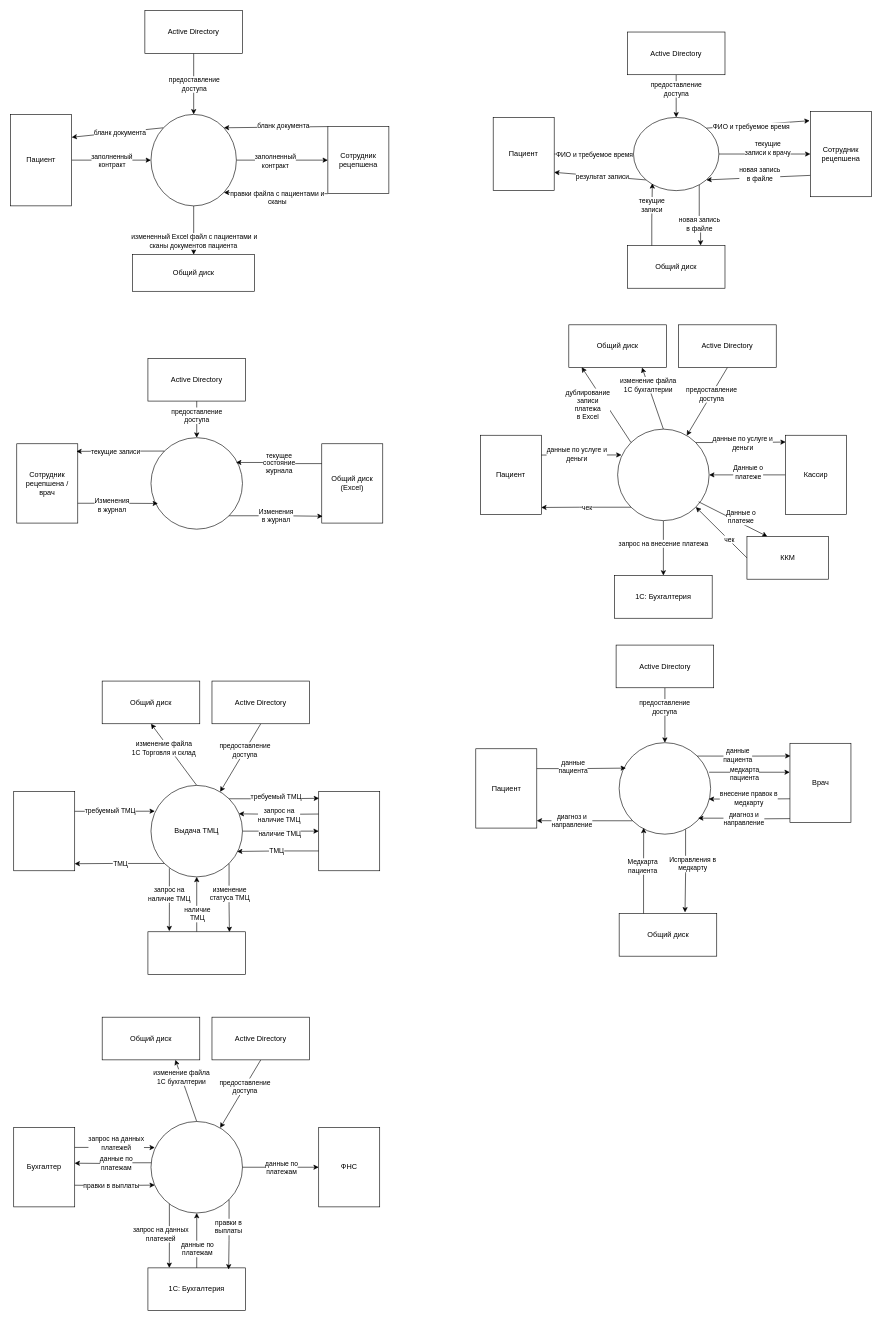
Some shapes in this 882 by 1321 pixel diagram are drawn without their labels. Each missing label, with the centre of its shape:
"1С: Торговля и склад" belongs at (x=196, y=952).
"Заключение клиентского контракта" belongs at (x=193, y=160).
"Запись к врачу" belongs at (x=676, y=154).
"Оплата услуг" belongs at (x=663, y=475).
"Прием пациента" belongs at (x=665, y=788).
"Процессинг платежей и выплата налогов" belongs at (x=196, y=1167).
"Редактирование журнала записей к специалисту" belongs at (x=196, y=483).
"Складской работник" belongs at (x=349, y=831).
"Сотрудник" belongs at (x=44, y=831).
